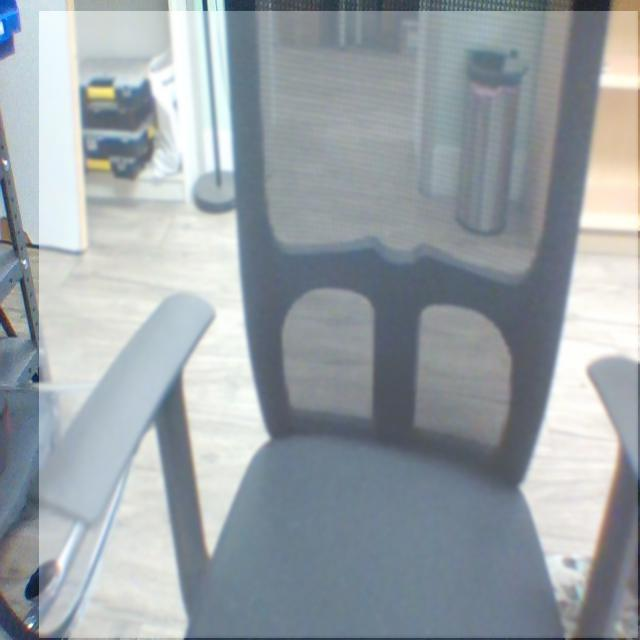chair: (39, 11, 639, 639)
